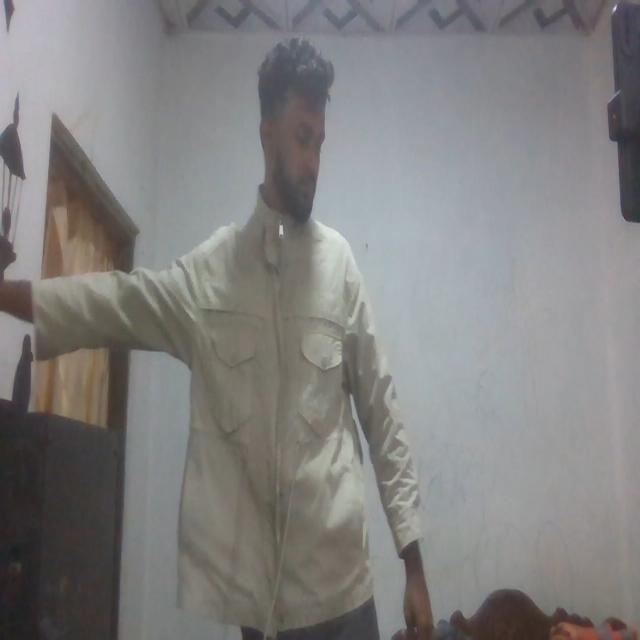Jacket_Wearer: (30, 177, 426, 618)
Person: (2, 34, 430, 624)
